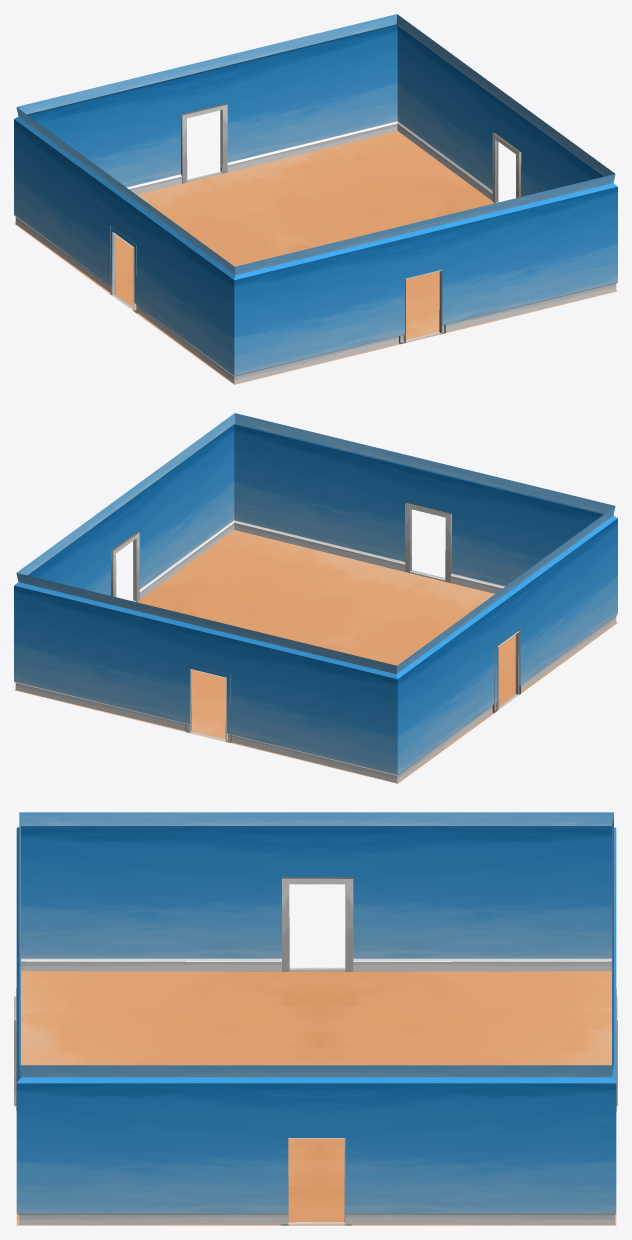
The model's file is Room_16x16_01.gltf.
3 views of the same model, one above another, from view 1: azimuth 30°, elevation 25°; view 2: azimuth 150°, elevation 25°; view 3: azimuth 270°, elevation 25° (orthographic). The views are drawn at different scales.
Parts seen in each view (by area): view 1: Room_16x16_01; view 2: Room_16x16_01; view 3: Room_16x16_01.
Part boxes in pixels (box(x1,y1,x2,y2)): Room_16x16_01: box(14, 14, 617, 384); Room_16x16_01: box(14, 413, 617, 783); Room_16x16_01: box(14, 812, 617, 1225).
Size of what is drawn, in the model's own units: 16.05 by 4.65 by 15.96.
1 material, 1 textured.
